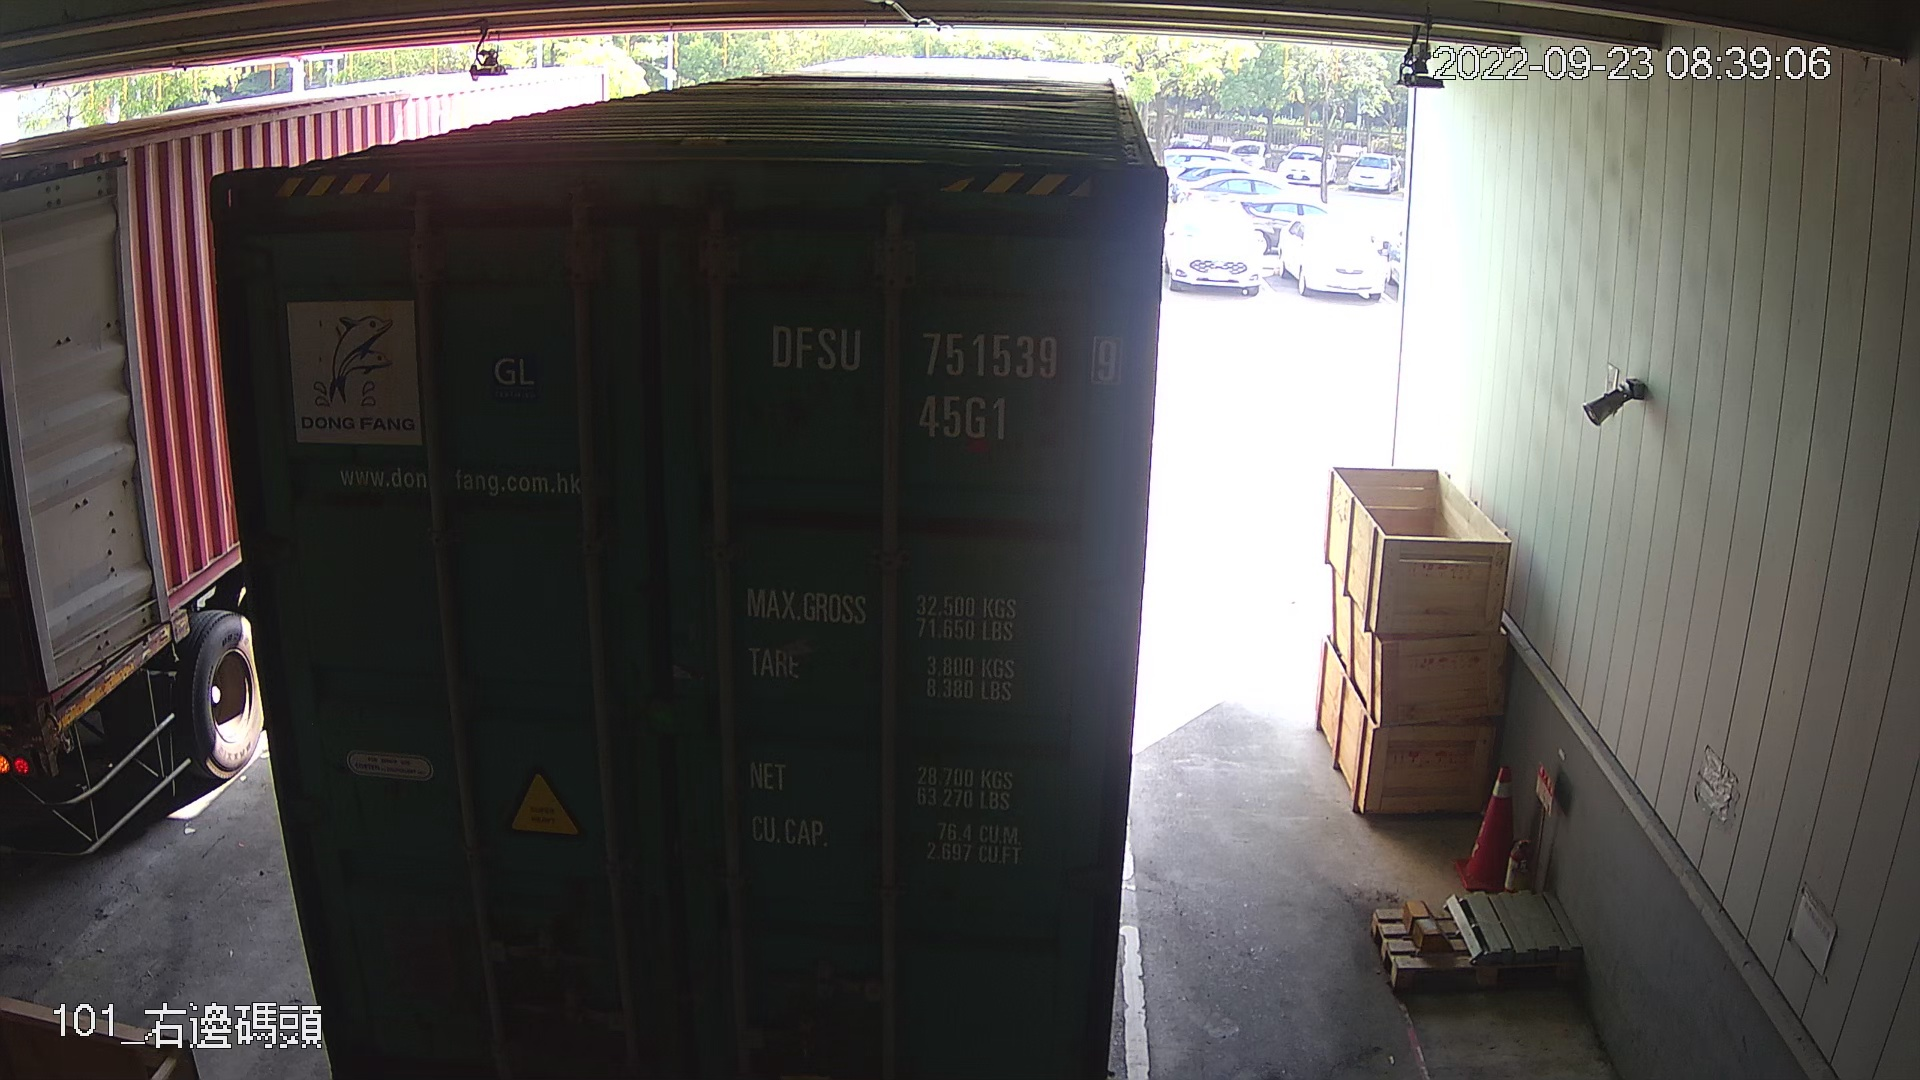container: (753, 311, 1135, 455)
